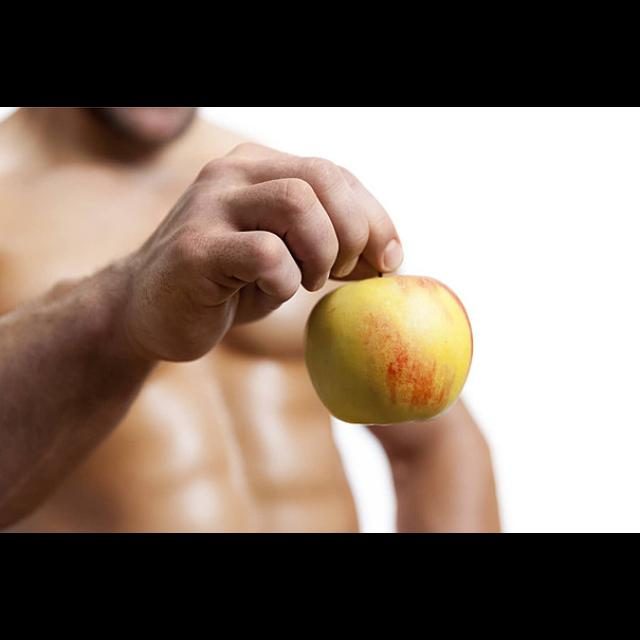Apel Segar: (301, 262, 489, 440)
